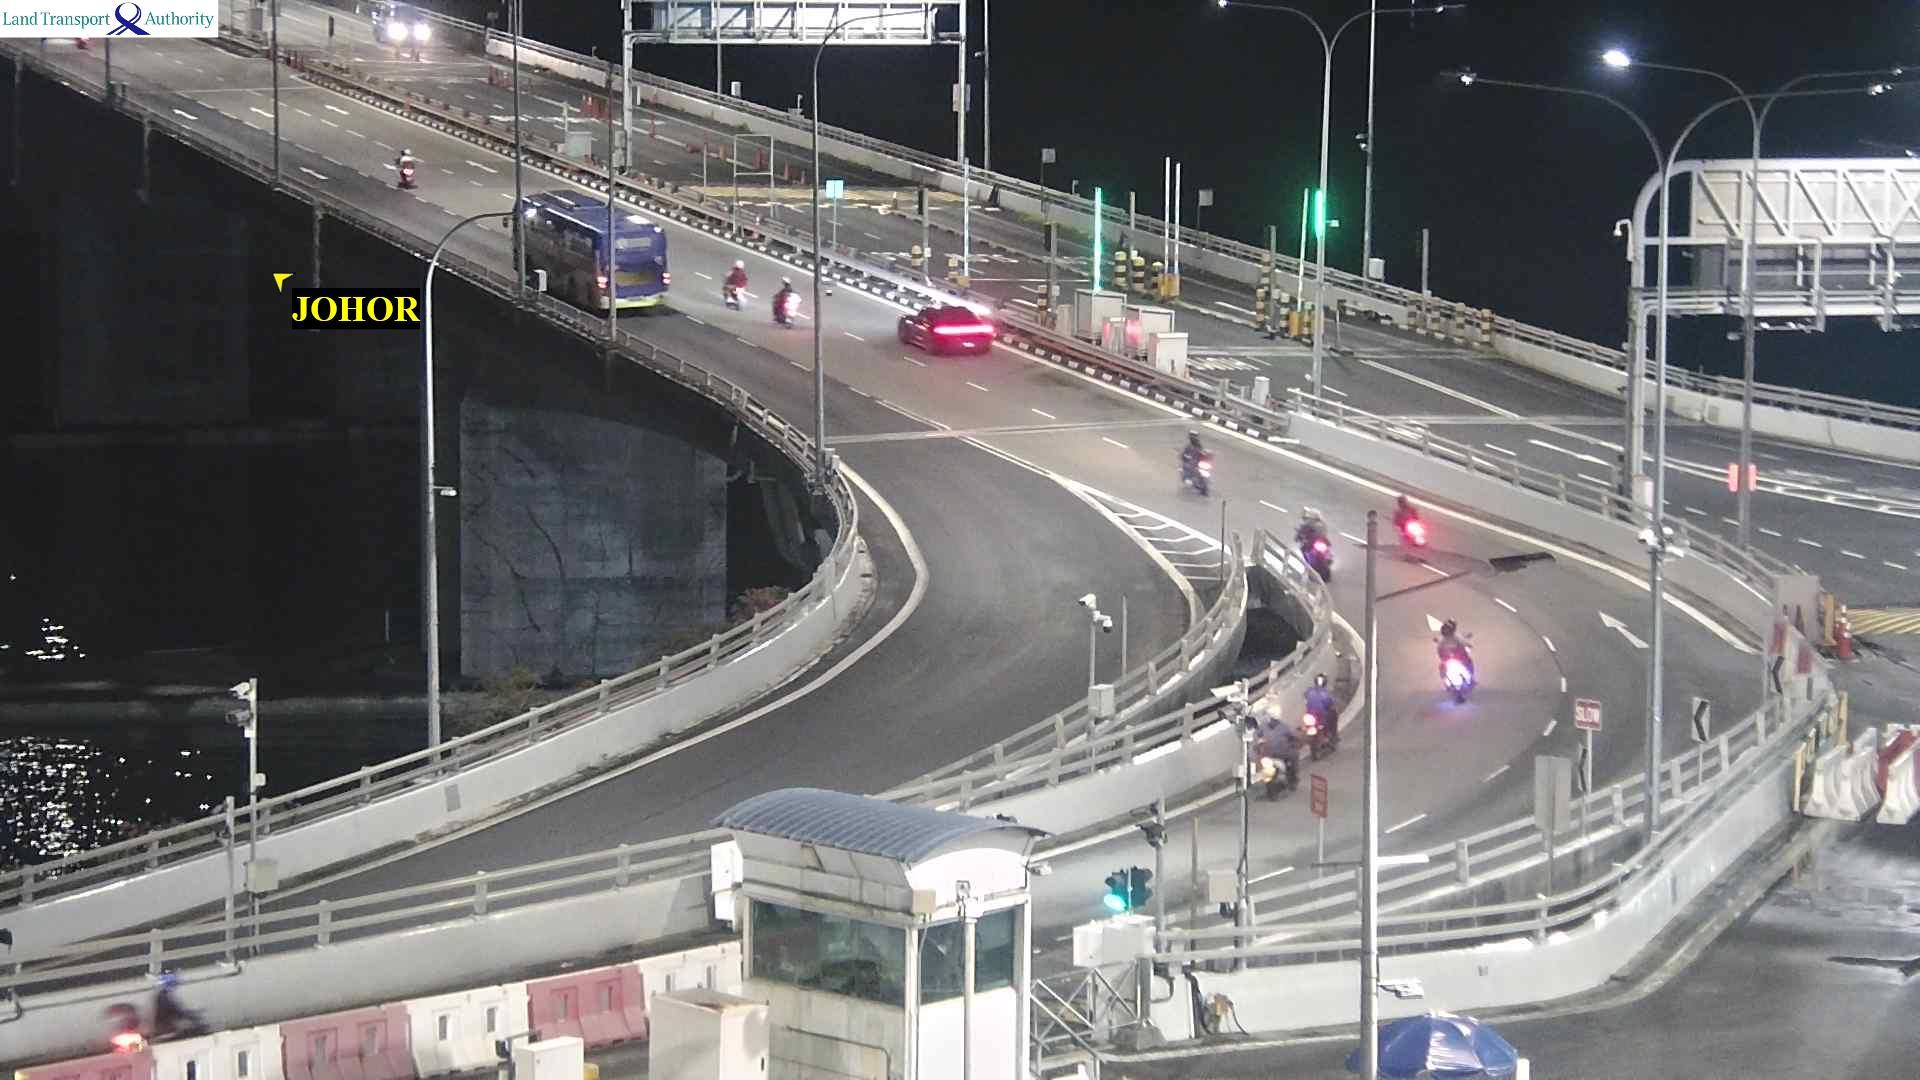vehicle-secondlink-johor: (508, 193, 671, 316), (113, 962, 207, 1049), (894, 307, 996, 358), (1433, 615, 1470, 710), (1309, 665, 1340, 757), (1248, 713, 1280, 786), (1290, 503, 1325, 569), (1175, 428, 1208, 496), (1390, 493, 1426, 554), (768, 282, 795, 325), (725, 250, 746, 304), (398, 137, 414, 191)
vehicle-secondlink-singapore: (371, 1, 434, 50)
